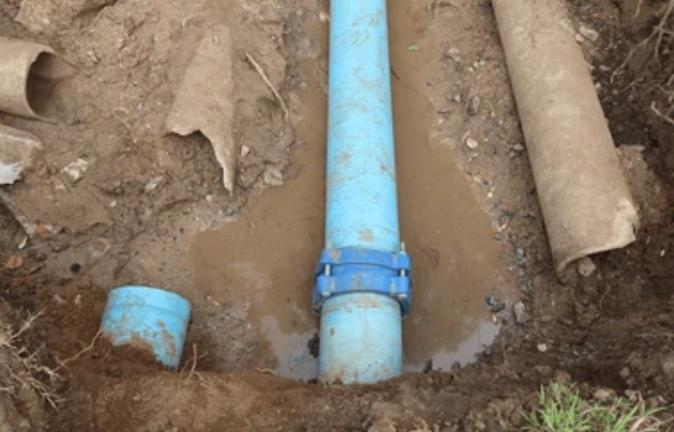water accumulation: (191, 0, 507, 381)
